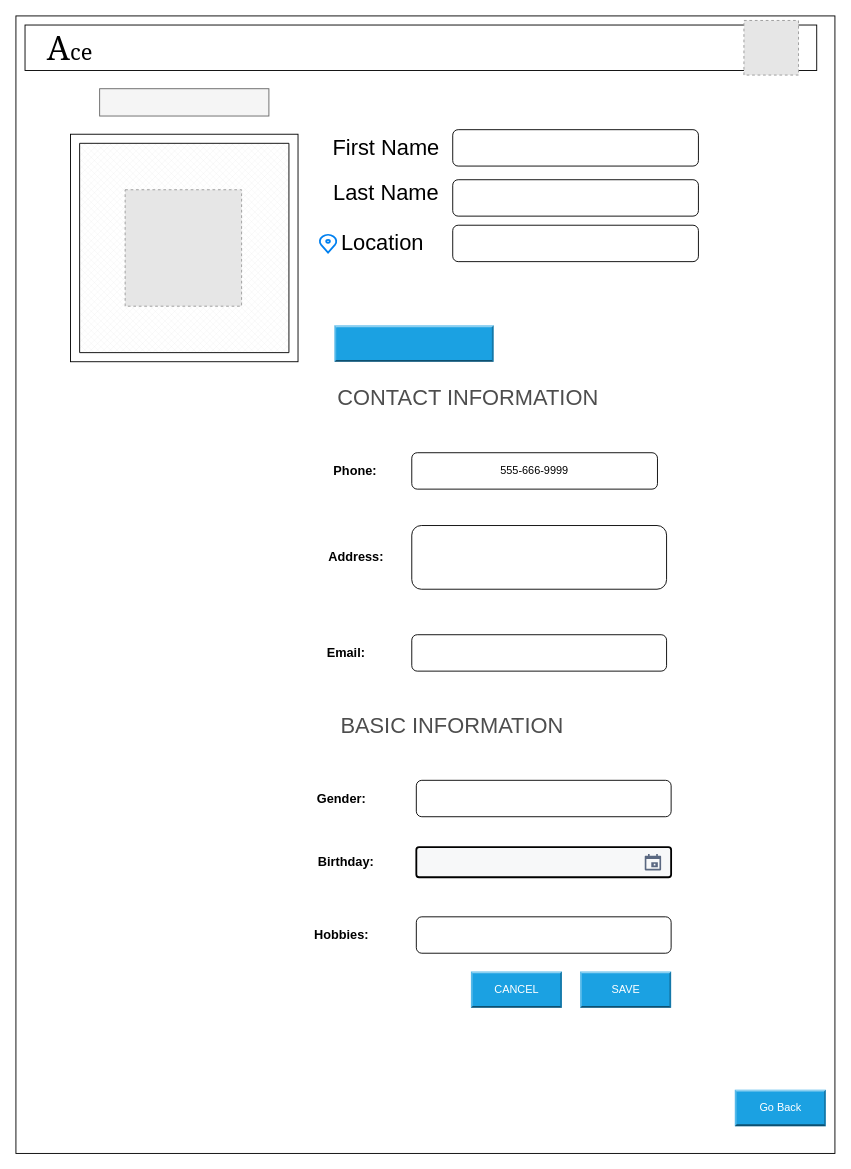
This 851x1169 diagram has some shape labels left out. Grey dashed boxes stand in for pictures. Here are the shapes that lost their labels. From the top down, the centre of each, then its label:
At (x=184, y=102): "EDIT PROFILE".
At (x=414, y=343): "Edit Photo".
